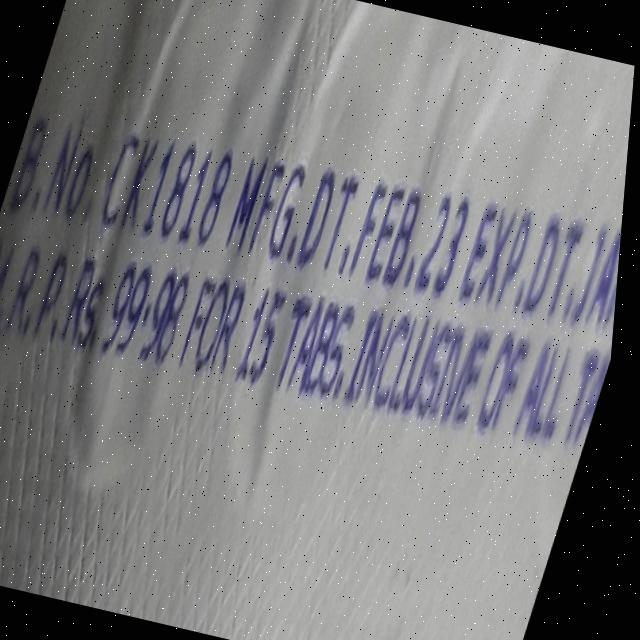sentence: (9, 100, 626, 341), (0, 236, 619, 454)
